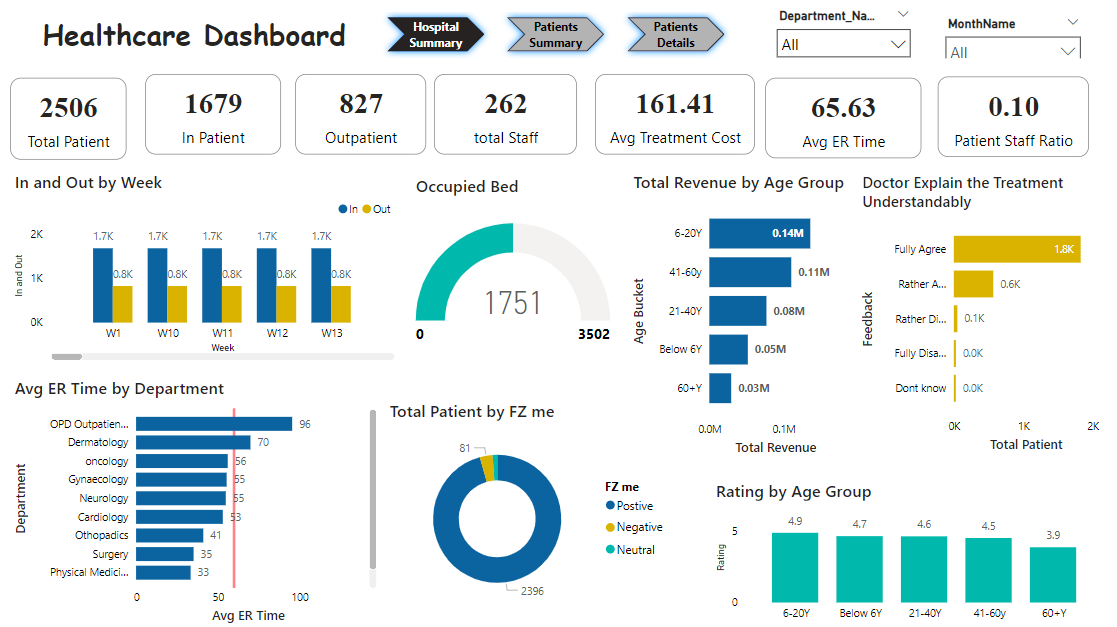

Layout of this report page (visuals, bound fields, positions):
{"tool":"powerbi","page":{"name":"Hospital Summary ","canvas":[1280,720],"ordinal":0},"visuals":[{"type":"cardVisual","fields":{"Data":["Measure.Total Patient"]},"box":[12.3,90.5,133,93.2],"z":1000},{"type":"textbox","box":[33,13.4,380.2,64.8],"z":2000},{"type":"slicer","fields":{"Values":["Department.Department_Name"]},"box":[878.9,6.1,173.6,69.7],"z":3000},{"type":"slicer","fields":{"Values":["Calendar_date.MonthName"]},"box":[1070.8,14.7,174.8,53.8],"z":4000},{"type":"cardVisual","fields":{"Data":["Measure.In Patient"]},"box":[167.3,85,154.9,91.9],"z":5000},{"type":"cardVisual","fields":{"Data":["Measure.Outpatient"]},"box":[338.6,85,149.4,91.9],"z":6000},{"type":"cardVisual","fields":{"Data":["Bed_Detail.total Staff"]},"box":[497.7,86.4,163.2,91.9],"z":7000},{"type":"cardVisual","fields":{"Data":["Measure.Avg Treatment Cost"]},"box":[681.4,86.4,182.3,91.9],"z":8000},{"type":"cardVisual","fields":{"Data":["Measure.Avg ER Time"]},"box":[876.1,90.5,178.2,91.9],"z":9000},{"type":"cardVisual","fields":{"Data":["Bed_Detail.Patient Staff Ratio"]},"box":[1073.5,89.1,172.8,91.9],"z":10000},{"type":"clusteredColumnChart","fields":{"Y":["Calendar_date.In Patient","Calendar_date.Outpatient"],"Category":["Calendar_date.WeekName"]},"box":[12.3,196.1,444.2,222.1],"z":11000},{"type":"gauge","fields":{"Y":["Divide(Measure.Occupied Bed, ScopedEval(Measure.Occupied Bed, []))"]},"box":[471.9,200.5,232.3,231],"z":12000},{"type":"clusteredBarChart","title":"Total Revenue by Age Group","fields":{"Y":["Measure.Total Revenue"],"Category":["Detail data dataset.Age Bucket"]},"box":[720,195.6,262.8,331.3],"z":13000},{"type":"barChart","fields":{"Y":["Measure.Avg ER Time"],"Category":["Department.Department_Name"]},"box":[12.3,431.9,423.7,287.9],"z":14000},{"type":"barChart","title":"Doctor Explain the Treatment Understandably","fields":{"Y":["Measure.Total Patient"],"Category":["Detail data dataset.Feedback"]},"box":[981.2,197.5,287.5,326.2],"z":15000},{"type":"columnChart","title":"Rating by Age Group","fields":{"Y":["Measure.Rating"],"Category":["Detail data dataset.Age Bucket"]},"box":[814.4,548.4,453.8,171.4],"z":16000},{"type":"donutChart","fields":{"Y":["Measure.Total Patient"],"Category":["Detail data dataset.FZ me"]},"box":[441.3,457.2,331.3,249.4],"z":17000},{"type":"pageNavigator","box":[436.4,13.4,402.2,55],"z":18000}]}

Visuals, with their boxes in screenshot pixels (x1, y1, x2, y2), scaled from the page's 1280x720 canvas onto the 1117x627 screenshot:
cardVisual - Measure.Total Patient: select_region(11, 79, 127, 160)
textbox: select_region(29, 12, 361, 68)
slicer - Department.Department_Name: select_region(767, 5, 918, 66)
slicer - Calendar_date.MonthName: select_region(934, 13, 1087, 60)
cardVisual - Measure.In Patient: select_region(146, 74, 281, 154)
cardVisual - Measure.Outpatient: select_region(295, 74, 426, 154)
cardVisual - Bed_Detail.total Staff: select_region(434, 75, 577, 155)
cardVisual - Measure.Avg Treatment Cost: select_region(595, 75, 754, 155)
cardVisual - Measure.Avg ER Time: select_region(765, 79, 920, 159)
cardVisual - Bed_Detail.Patient Staff Ratio: select_region(937, 78, 1088, 158)
clusteredColumnChart - Calendar_date.In Patient x Calendar_date.Outpatient: select_region(11, 171, 398, 364)
gauge - Divide(Measure.Occupied Bed, ScopedEval(Measure.Occupied Bed, [])): select_region(412, 175, 615, 376)
"Total Revenue by Age Group" clusteredBarChart: select_region(628, 170, 858, 459)
barChart - Measure.Avg ER Time x Department.Department_Name: select_region(11, 376, 380, 626)
"Doctor Explain the Treatment Understandably" barChart: select_region(856, 172, 1107, 456)
"Rating by Age Group" columnChart: select_region(711, 478, 1107, 626)
donutChart - Measure.Total Patient x Detail data dataset.FZ me: select_region(385, 398, 674, 615)
pageNavigator: select_region(381, 12, 732, 60)
